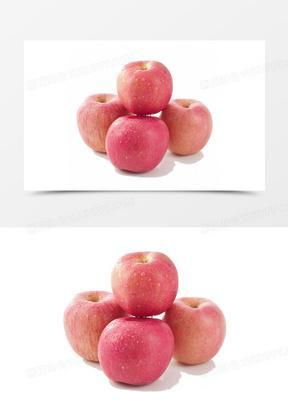apple: (96, 315, 174, 386), (110, 250, 178, 319), (61, 289, 125, 362), (163, 295, 226, 364), (104, 115, 169, 177), (74, 92, 131, 154), (114, 58, 172, 116), (159, 96, 211, 155)
